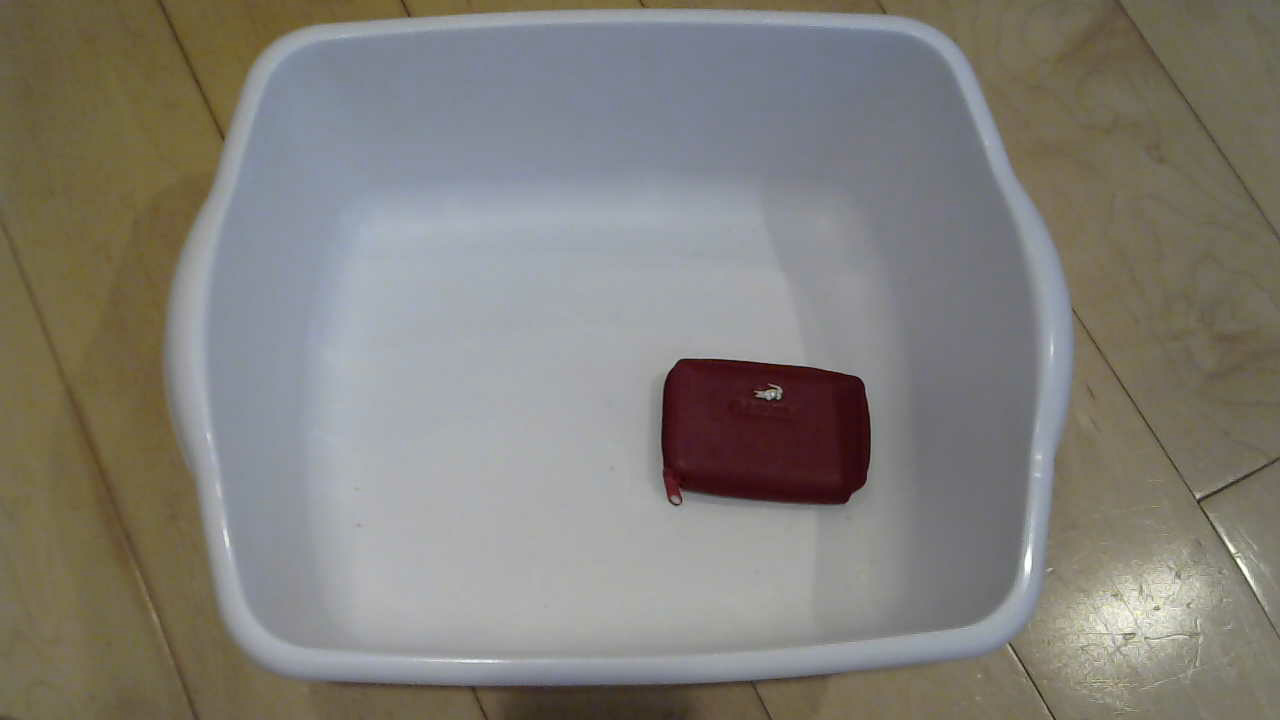wallet: (640, 361, 880, 516)
